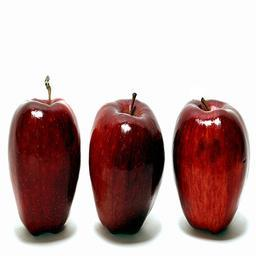apple: (7, 98, 83, 239), (89, 96, 165, 237), (172, 95, 248, 236)
